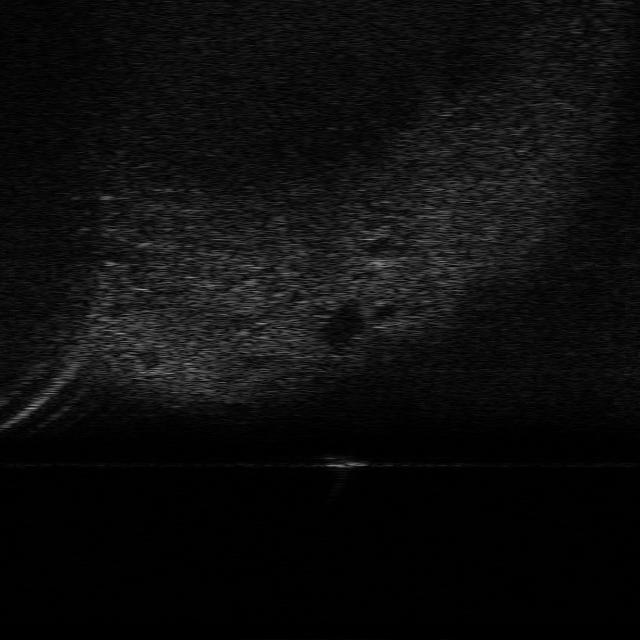cube: (321, 446, 369, 472)
